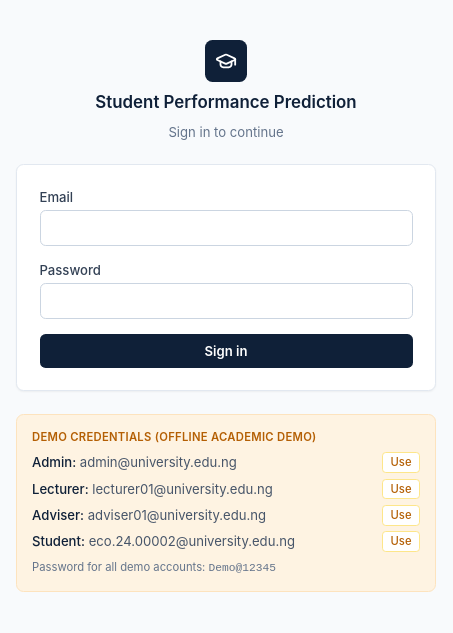
Test case: Login page › shows an error message when login fails, rather than silently doing nothing
Type "admin@university.edu.ng" into the field labelled "Email".
click(226, 228); type("admin@university.edu.ng")  # box [40, 210, 412, 246]
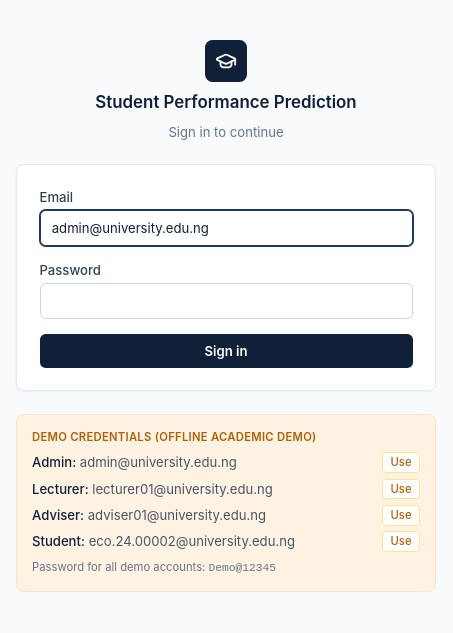
Type "wrong" into the password field labelled "Password".
click(226, 301); type("wrong")  # box [40, 283, 412, 319]
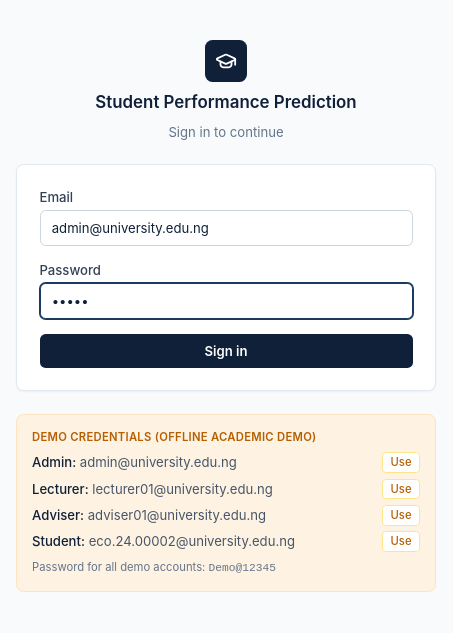
Click the button "Sign in".
click(226, 351)  # box [40, 334, 412, 368]
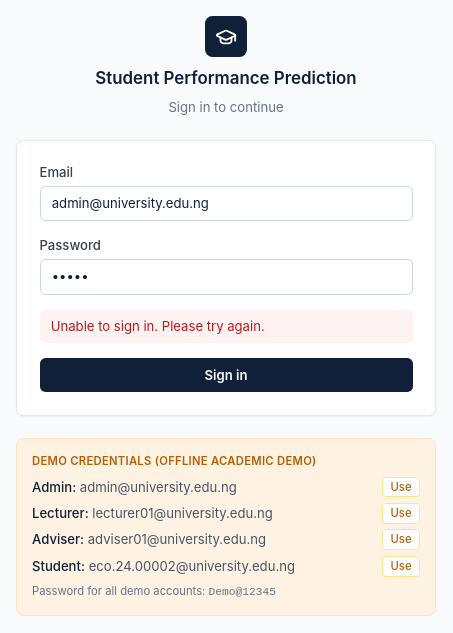
Check: the message reads "Unable to sign in. Please try again.", box [51, 318, 265, 334]
